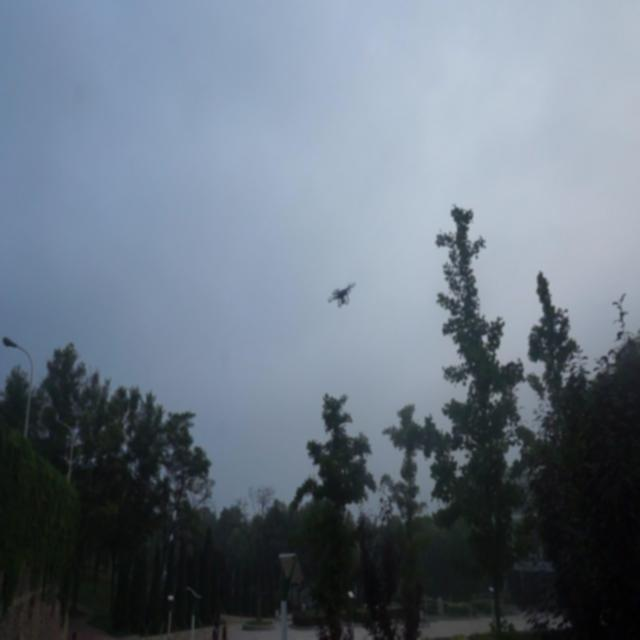UAV: (328, 282, 356, 308)
